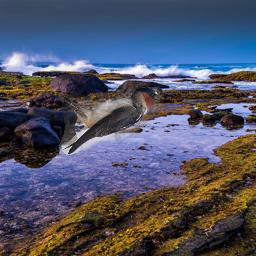Swallow: (59, 87, 164, 155)
